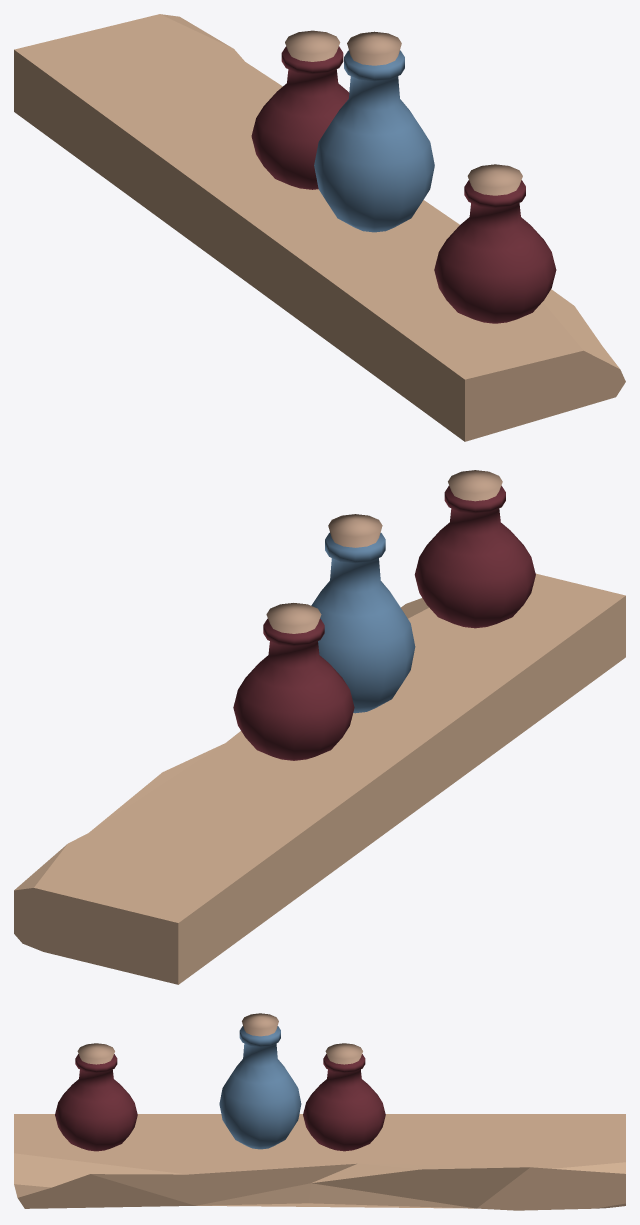
Rendered from topshelf.fbx.
3 views of the same model, one above another, from view 1: azimuth 30°, elevation 25°; view 2: azimuth 150°, elevation 25°; view 3: azimuth 270°, elevation 25° (orthographic). The views are drawn at different scales.
Parts seen in each view (by area): view 1: Cube.032, Pot_Blue, Pot_Red.001, Pot_Red; view 2: Cube.032, Pot_Blue, Pot_Red.001, Pot_Red; view 3: Cube.032, Pot_Blue, Pot_Red.001, Pot_Red.
Part boxes in pixels (x1,y1,x2,y2): Cube.032: (14, 14, 625, 441); Pot_Blue: (314, 31, 434, 232); Pot_Red.001: (434, 164, 556, 323); Pot_Red: (251, 30, 349, 189); Cube.032: (14, 573, 625, 984); Pot_Blue: (311, 514, 415, 713); Pot_Red.001: (414, 470, 535, 628); Pot_Red: (233, 603, 354, 760); Cube.032: (14, 1114, 625, 1210); Pot_Blue: (219, 1013, 301, 1149); Pot_Red.001: (55, 1043, 137, 1151); Pot_Red: (303, 1043, 385, 1151).
Size of the model in its own units: 10.64 by 15.07 by 49.5.
